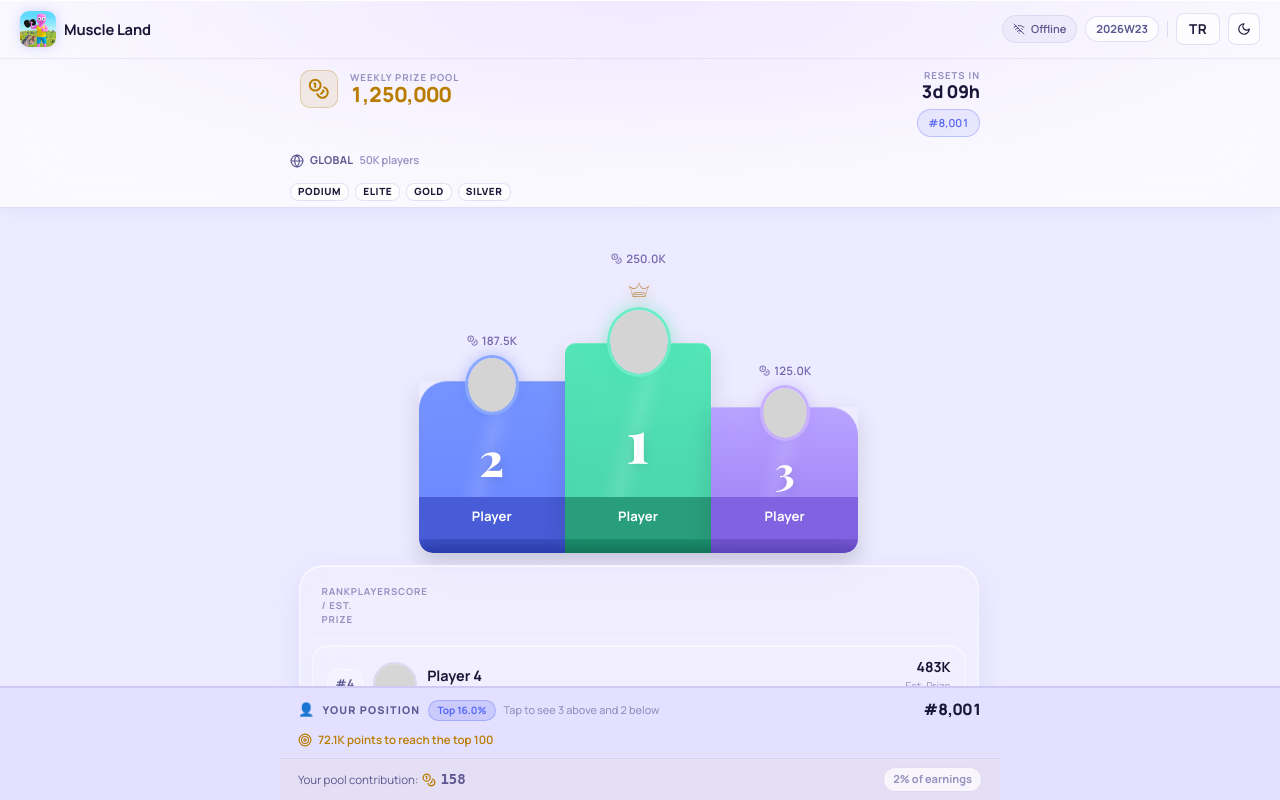
Test case: LeaderboardPage › expands neighborhood list on panel click when outside top 100
Expected: the element named "Your Position: Rank" is shown, [0,686,1279,799]
Click the button with aria-label "Show nearby players". click: (640, 710)
box: [280,688,1000,732]
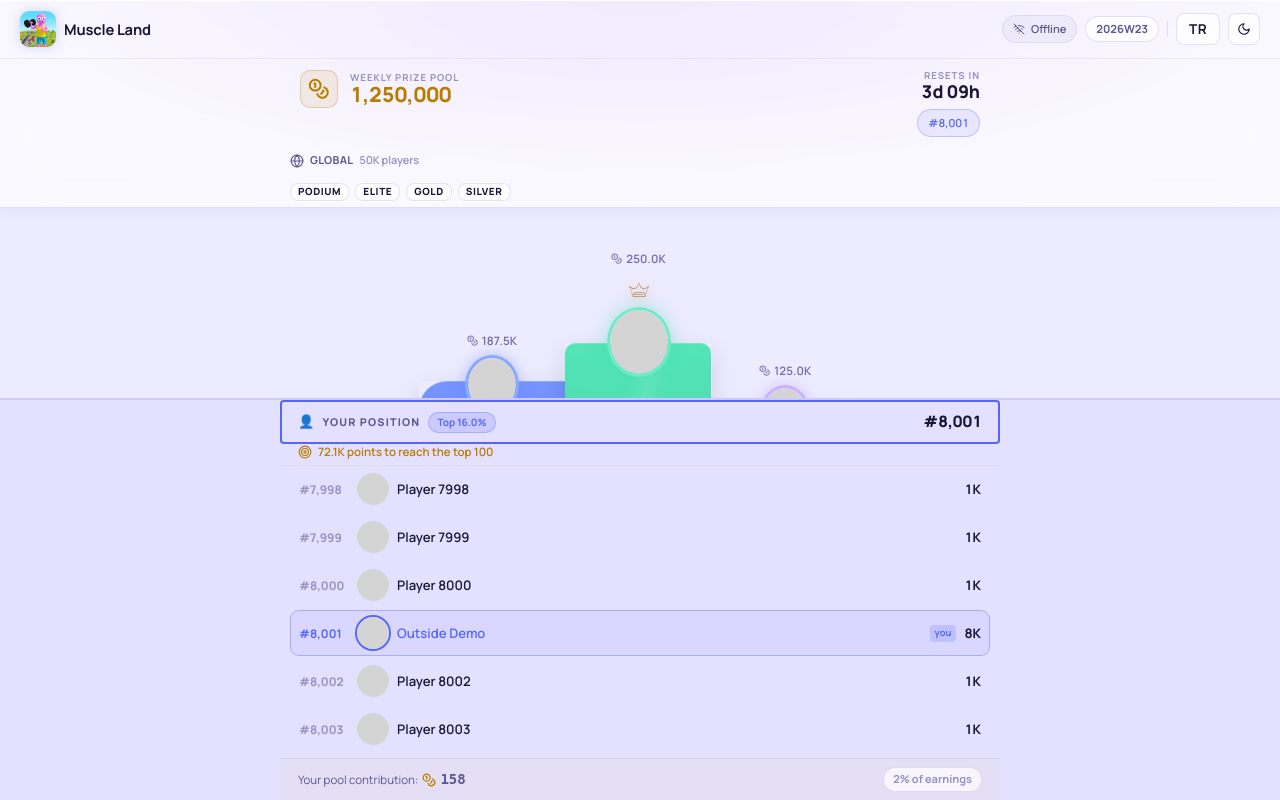
Result: the list named "Nearby players" is shown at [280,466,1000,758]
Result: the text "Player 7998" is shown at [397,480,469,498]
Result: the text "Outside Demo" is shown at [397,624,485,642]
